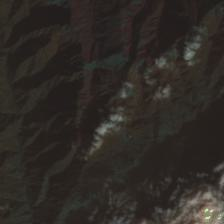landslides: (122, 88, 138, 100), (192, 37, 205, 50), (131, 88, 143, 98), (119, 129, 127, 143), (127, 79, 142, 86)
